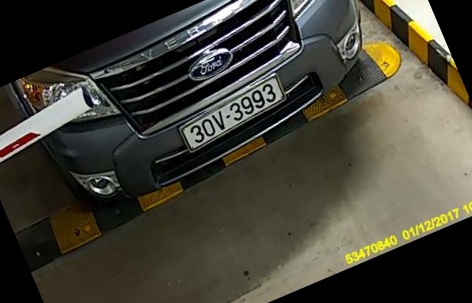plate: (180, 79, 295, 152)
